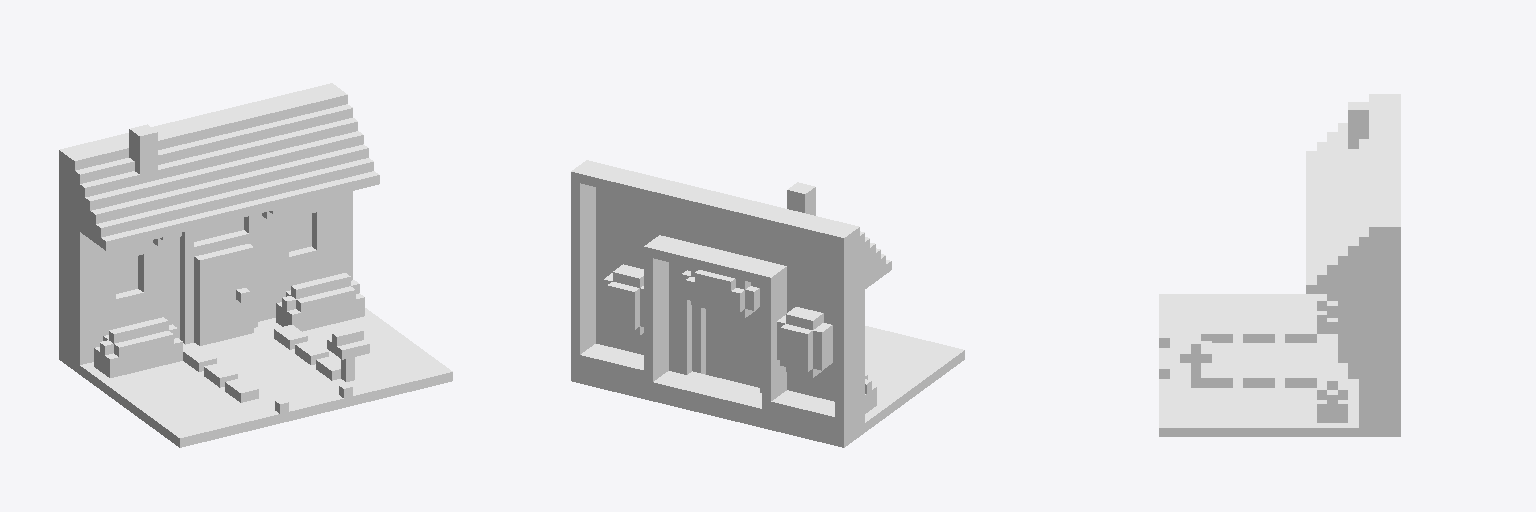
File: maison-2.obj
The picture shows the model from 3 angles: view 1: azimuth 30°, elevation 25°; view 2: azimuth 150°, elevation 25°; view 3: azimuth 270°, elevation 25°; orthographic projection.
Visible parts, largest first — view 1: object 1; view 2: object 1; view 3: object 1.
Boxes of the visible parts, x1,y1,x2,y2 form: object 1: [59, 83, 452, 447]; object 1: [571, 160, 964, 447]; object 1: [1159, 94, 1400, 436].
Size of the model in its own units: 3 by 2.4 by 2.3.